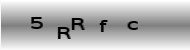5: (29, 16, 44, 29)
R: (56, 26, 71, 39), (70, 17, 85, 30)
c: (126, 20, 139, 30)
f: (98, 19, 108, 32)
